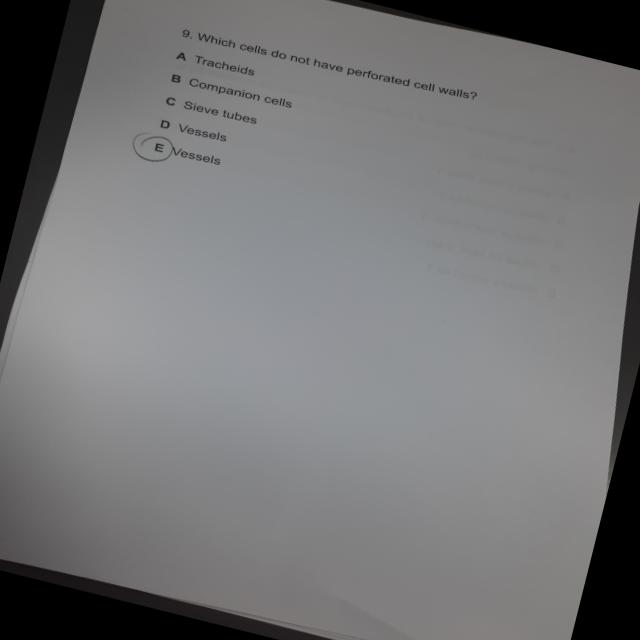E: (126, 130, 188, 173)
